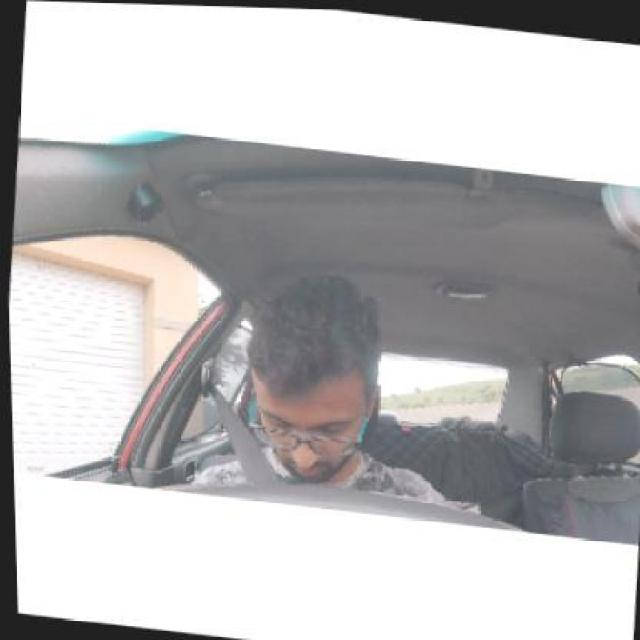drowsy: (249, 269, 394, 477)
